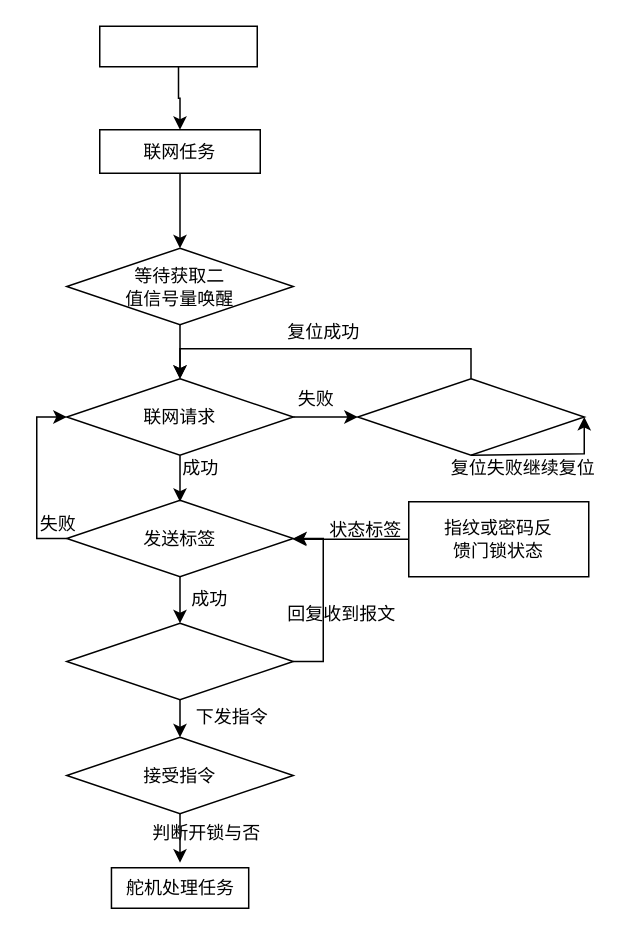
This 635x935 diagram has some shape labels left out. Here are the shapes that lost their labels. From the top down, the centre of each, then its label:
At point 177,46: "创建任务".
At point 470,416: "复位".
At point 179,661: "ONENET".
